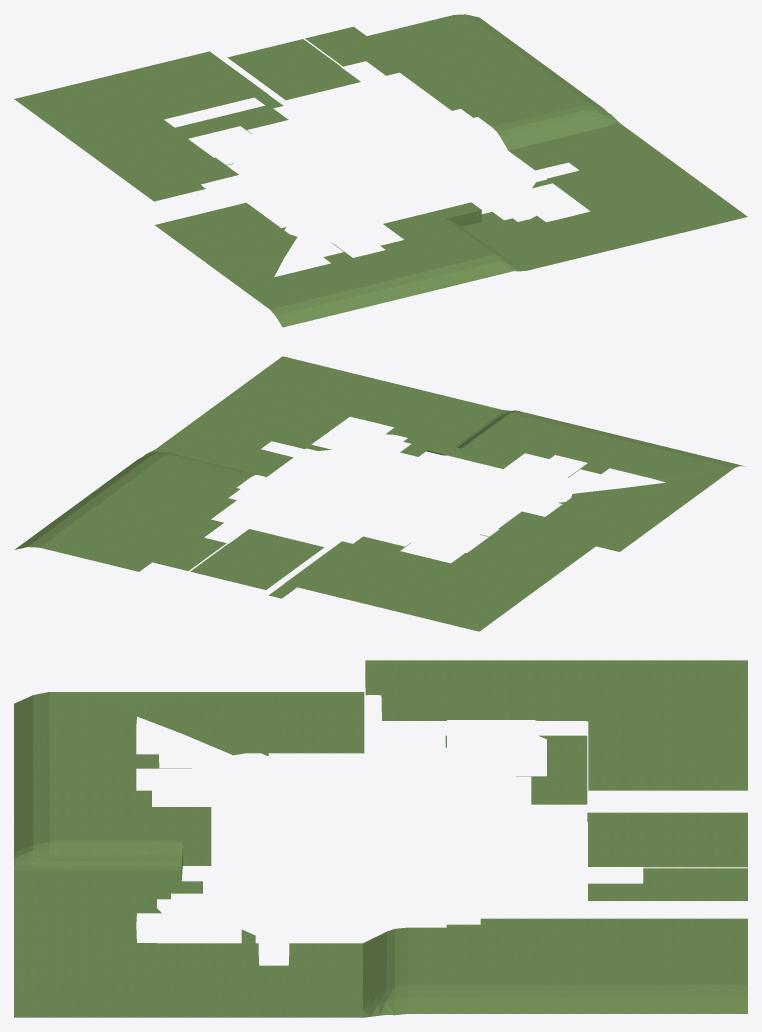
Rendered from SM_ENV_KNVLLG_ground_distant.fbx.
3 views of the same model, one above another, from view 1: azimuth 30°, elevation 25°; view 2: azimuth 150°, elevation 25°; view 3: azimuth 270°, elevation 25° (orthographic). The views are drawn at different scales.
Parts seen in each view (by area): view 1: SM_ENV_KNVLLG_ground_distant.mo; view 2: SM_ENV_KNVLLG_ground_distant.mo; view 3: SM_ENV_KNVLLG_ground_distant.mo.
Boxes of the visible parts, x1,y1,x2,y2 form: SM_ENV_KNVLLG_ground_distant.mo: (14, 14, 747, 327); SM_ENV_KNVLLG_ground_distant.mo: (14, 356, 745, 631); SM_ENV_KNVLLG_ground_distant.mo: (14, 660, 747, 1017).
Size of the model in its own units: 85788 by 6128 by 85788.
